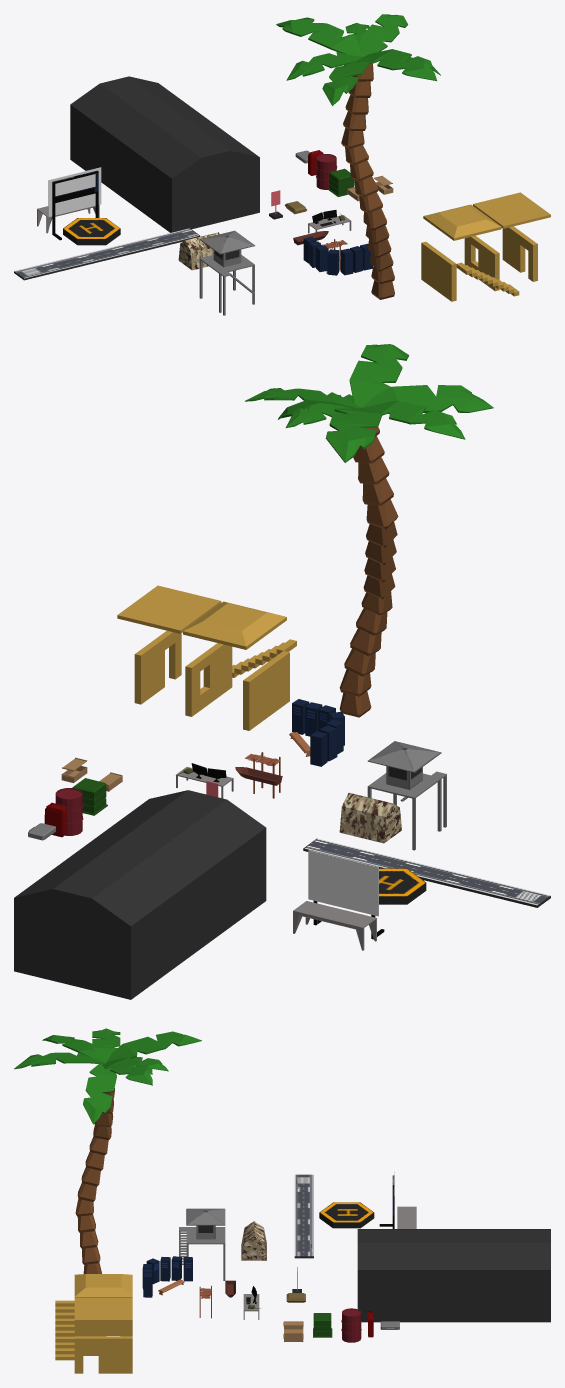
The model's file is ToTheTarget_FieldObjectsAssetPack.fbx.
3 renders of one model, top to bottom at view 1: azimuth 30°, elevation 25°; view 2: azimuth 150°, elevation 25°; view 3: azimuth 270°, elevation 25°, orthographic. The views are drawn at different scales.
Parts seen in each view (by area): view 1: Hangar, PalmTreeLeaf, PalmTreeWood, PlaneRunway, RuinedHouseRoof, RuinedHouseFloor, EqWall, RuinedHouseWall_Flat, RuinedHouseWall_Door, Helipad, RuinedHouseWall_Windowed, Tower (+5 smaller); view 2: Hangar, PalmTreeLeaf, PalmTreeWood, EqWall, PlaneRunway, RuinedHouseRoof, RuinedHouseFloor, RuinedHouseWall_Flat, RuinedHouseWall_Windowed, Tent, RuinedHouseWall_Door, Tower (+5 smaller); view 3: Hangar, PalmTreeLeaf, PalmTreeWood, RuinedHouseWall_Door, PlaneRunway, RuinedHouseFloor, RuinedHouseRoof, Helipad, Tower, RuinedHouseWall_Windowed, Tent, Barrel (+3 smaller).
Boxes of the visible parts, box(x1,y1,x2,y2) form: Hangar: box(70, 76, 259, 232); PalmTreeLeaf: box(276, 14, 440, 105); PalmTreeWood: box(341, 64, 394, 299); PlaneRunway: box(14, 228, 200, 280); RuinedHouseRoof: box(423, 204, 501, 240); RuinedHouseFloor: box(473, 192, 550, 228); EqWall: box(48, 167, 101, 216); RuinedHouseWall_Flat: box(421, 241, 456, 301); RuinedHouseWall_Door: box(502, 226, 537, 281); Helipad: box(63, 218, 120, 245); RuinedHouseWall_Windowed: box(464, 235, 499, 291); Tower: box(199, 230, 255, 267); Hangar: box(14, 790, 266, 999); PalmTreeLeaf: box(245, 344, 493, 462); PalmTreeWood: box(339, 427, 398, 717); EqWall: box(308, 850, 378, 916); PlaneRunway: box(303, 838, 550, 907); RuinedHouseRoof: box(183, 601, 286, 649); RuinedHouseFloor: box(117, 585, 221, 633); RuinedHouseWall_Flat: box(243, 651, 289, 730); RuinedHouseWall_Windowed: box(185, 643, 232, 716); Tent: box(339, 793, 401, 843); RuinedHouseWall_Door: box(134, 630, 181, 704); Tower: box(367, 741, 441, 789); Hangar: box(357, 1229, 550, 1322); PalmTreeLeaf: box(14, 1028, 201, 1124); PalmTreeWood: box(75, 1088, 114, 1273); RuinedHouseWall_Door: box(74, 1336, 132, 1373); PlaneRunway: box(294, 1174, 313, 1258); RuinedHouseFloor: box(74, 1297, 132, 1322); RuinedHouseRoof: box(74, 1274, 132, 1297); Helipad: box(319, 1202, 374, 1228); Tower: box(186, 1208, 225, 1239); RuinedHouseWall_Windowed: box(74, 1322, 132, 1355); Tent: box(241, 1221, 266, 1260); Barrel: box(341, 1308, 361, 1342).
Size of the model in its own units: 4672 by 3007 by 5554.
25 materials, 4 textured.
